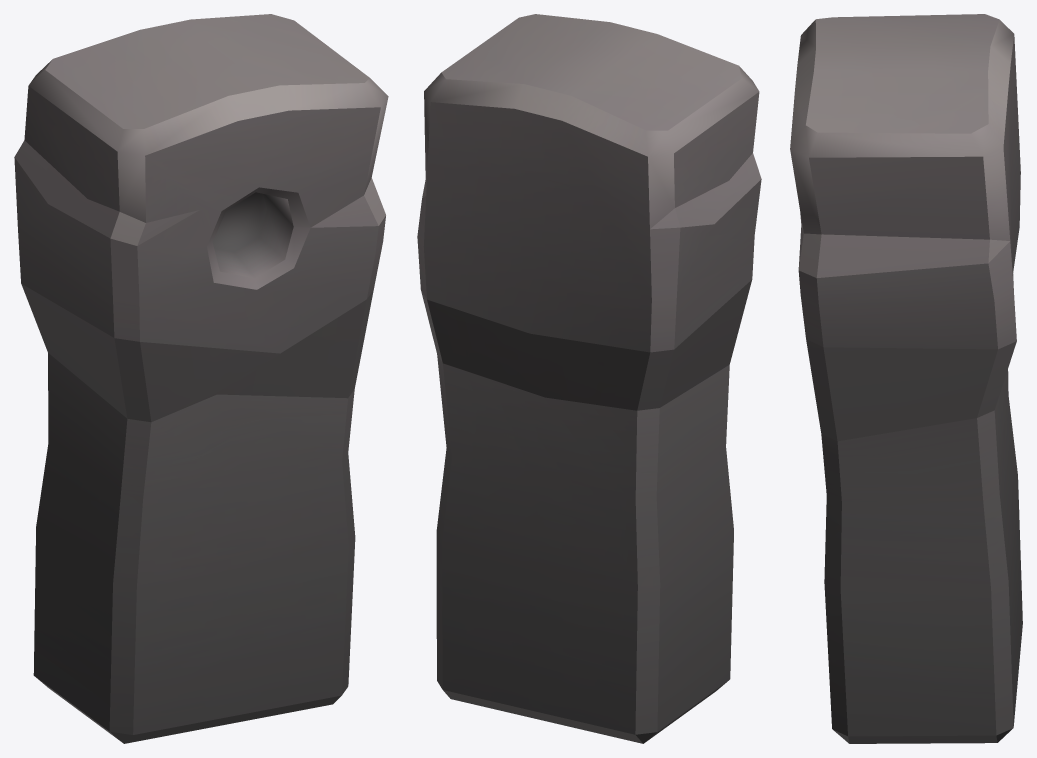
Rendered from elf_monolith_small.fbx.
3 renders of one model, left to right at view 1: azimuth 30°, elevation 25°; view 2: azimuth 150°, elevation 25°; view 3: azimuth 270°, elevation 25°, orthographic. The views are drawn at different scales.
Parts seen in each view (by area): view 1: elf_monolith_small; view 2: elf_monolith_small; view 3: elf_monolith_small.
Boxes of the visible parts, left/top/right/bottom form: elf_monolith_small: left=14, top=14, right=388, bottom=743; elf_monolith_small: left=417, top=14, right=761, bottom=743; elf_monolith_small: left=790, top=14, right=1022, bottom=743.
Bounding box in the file's own units: 210 × 470 × 155.
